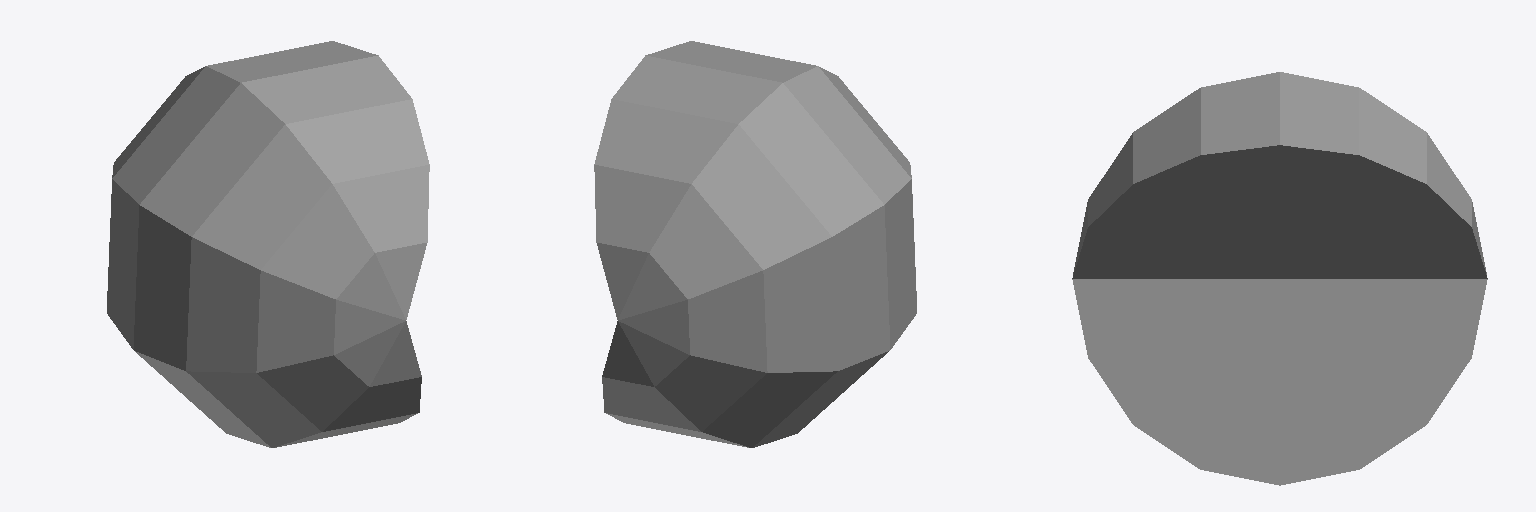
The model's file is pacman.obj.
The picture shows the model from 3 angles: view 1: azimuth 30°, elevation 25°; view 2: azimuth 150°, elevation 25°; view 3: azimuth 270°, elevation 25°; orthographic projection.
Visible parts, largest first — view 1: Sphere; view 2: Sphere; view 3: Sphere.
Part boxes in pixels (x1,y1,x2,y2): Sphere: (107, 41, 429, 447); Sphere: (594, 41, 916, 447); Sphere: (1072, 72, 1487, 485).
Size of the model in its own units: 2.48 by 3.42 by 3.64.